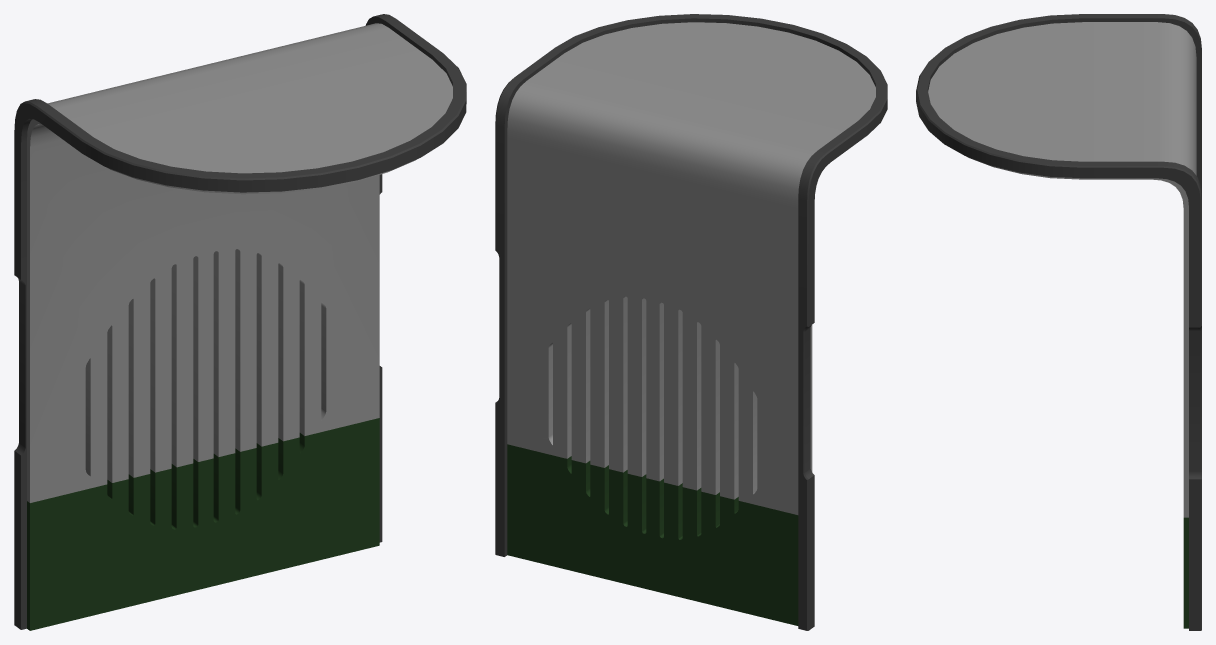
File: W_O_Shade_002_L0.fbx
3 views of the same model, side by side, from view 1: azimuth 30°, elevation 25°; view 2: azimuth 150°, elevation 25°; view 3: azimuth 270°, elevation 25° (orthographic). The views are drawn at different scales.
Visible parts, largest first — view 1: W_O_Shade_002_L0; view 2: W_O_Shade_002_L0; view 3: W_O_Shade_002_L0.
Boxes of the visible parts, x1,y1,x2,y2 form: W_O_Shade_002_L0: (14,14,466,630); W_O_Shade_002_L0: (495,14,887,630); W_O_Shade_002_L0: (916,14,1201,630).
Bounding box in the file's own units: 2.8 × 3.96 × 2.21.
